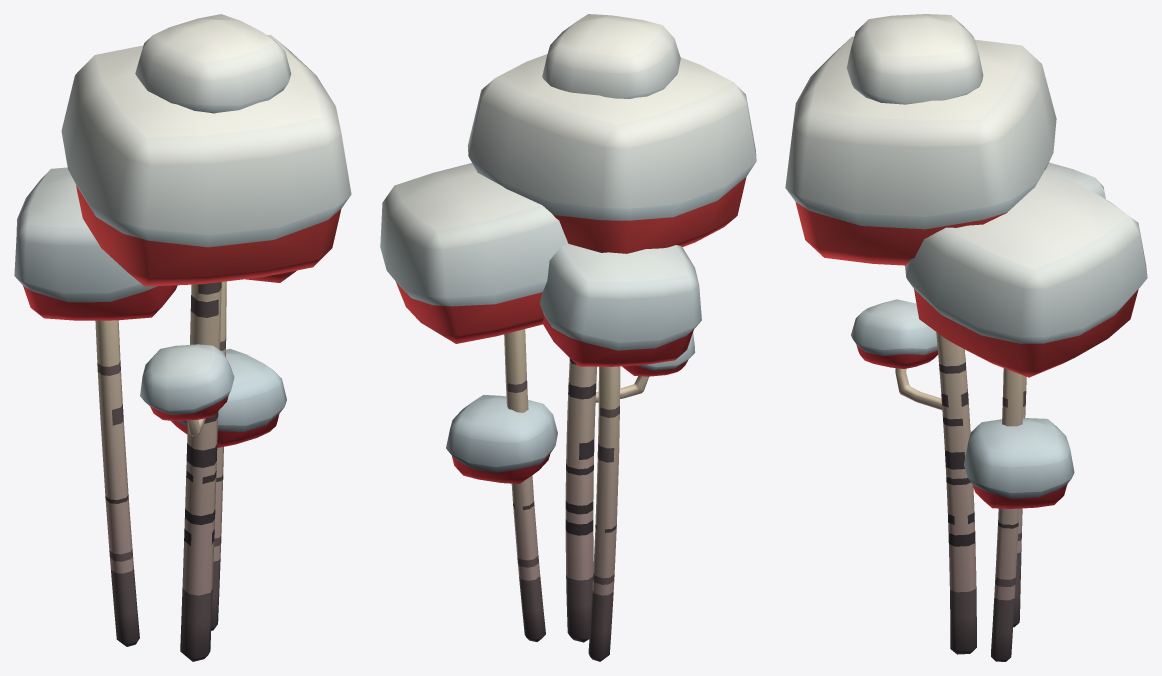
The model's file is birch_tree_col3_05_snow.fbx.
3 renders of one model, left to right at view 1: azimuth 30°, elevation 25°; view 2: azimuth 150°, elevation 25°; view 3: azimuth 270°, elevation 25°, orthographic. The views are drawn at different scales.
Visible parts, largest first — view 1: birch_tree_col3_05_snow; view 2: birch_tree_col3_05_snow; view 3: birch_tree_col3_05_snow.
Part boxes in pixels (bbox=[...]): birch_tree_col3_05_snow: bbox=[14, 14, 351, 661]; birch_tree_col3_05_snow: bbox=[380, 14, 756, 661]; birch_tree_col3_05_snow: bbox=[785, 14, 1147, 661].
Bounding box in the file's own units: 435 × 819 × 432.
Materials: 1 (1 with a texture image).
